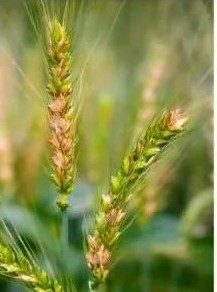Wheat scab: (87, 106, 189, 284), (35, 16, 87, 207)
